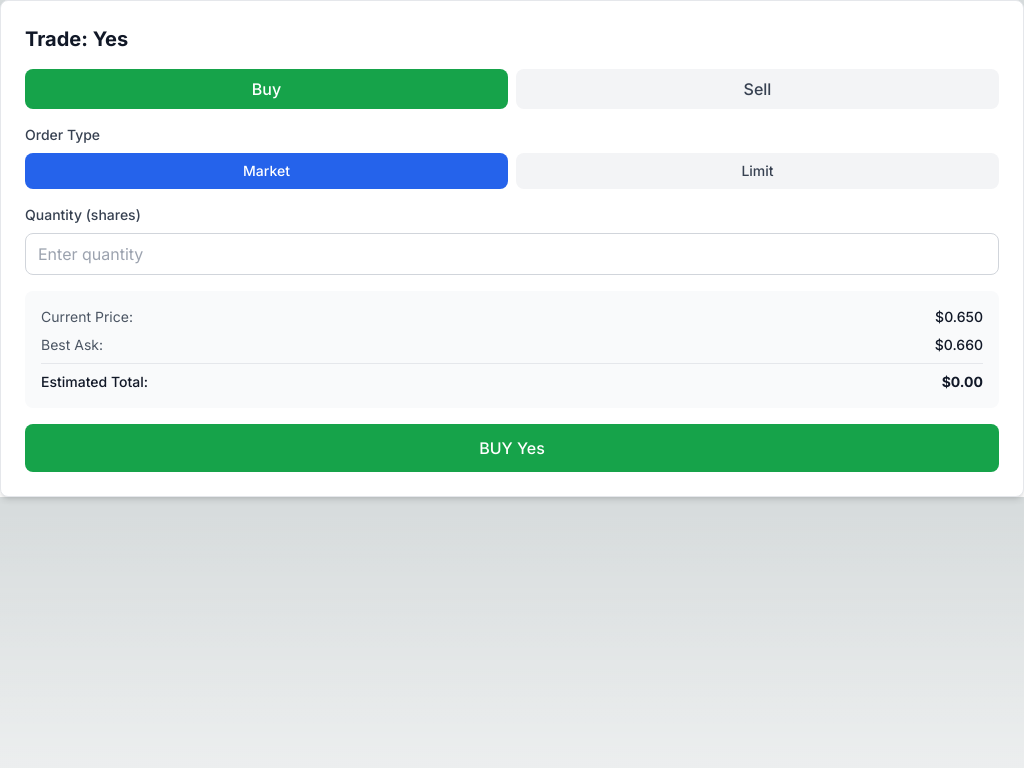
Test case: TradingInterface › should disable submit button when submitting
The image size is (1024, 768).
Step 1. Type "100" into the number field with placeholder "Enter quantity" → (512, 254), box x1=25 y1=233 x2=999 y2=275
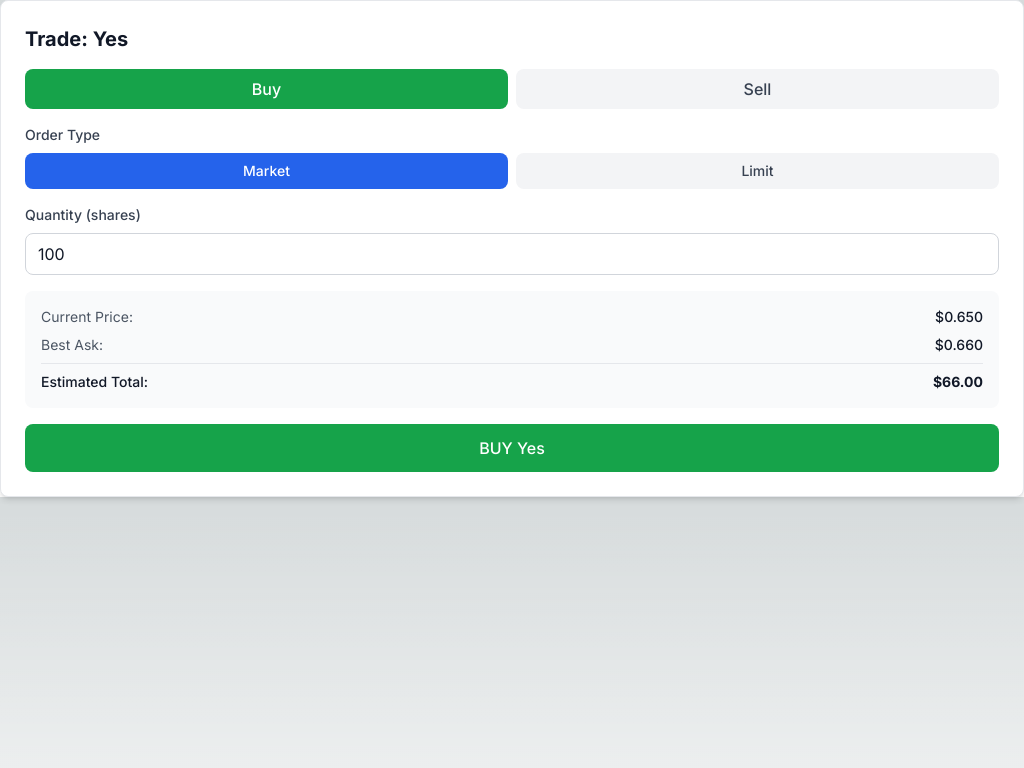
Step 2. Click the button "BUY Yes" → (512, 448), box x1=25 y1=424 x2=999 y2=472
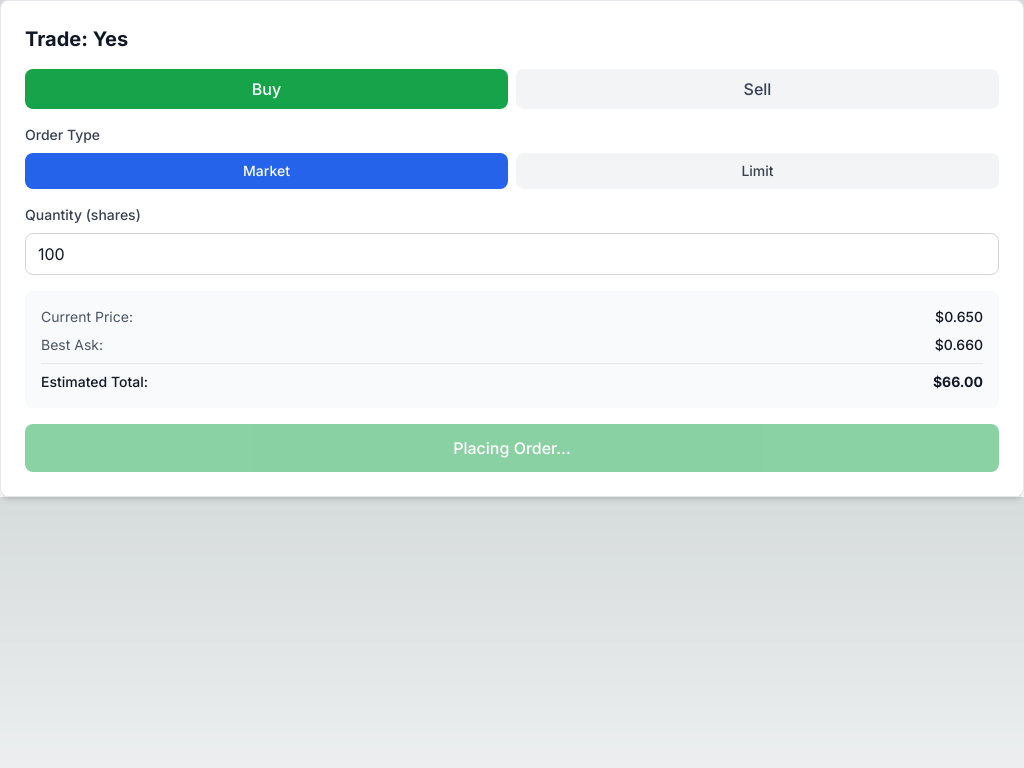
Check: the button "Placing Order..." is disabled, box x1=25 y1=424 x2=999 y2=472
